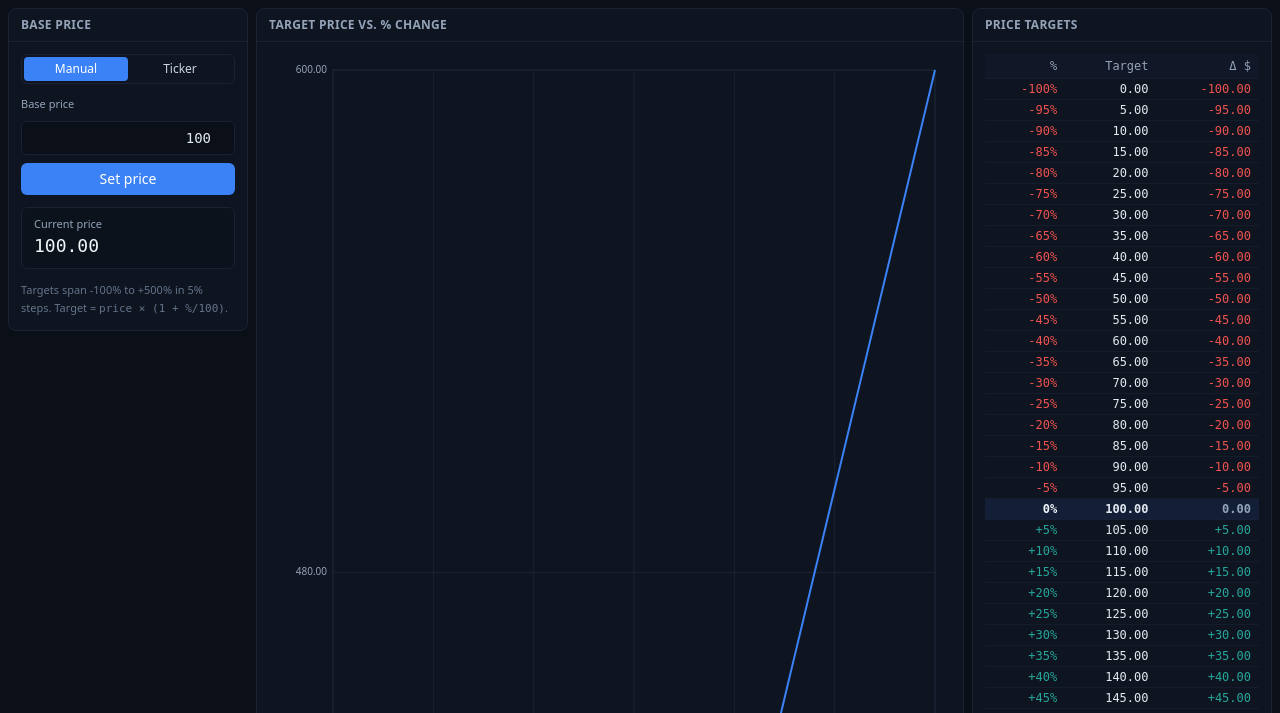
Test: PriceTargetWorkspace › recomputes targets when a manual base price is set
Replace the text in the number field labelled "Base price" with "200" at (128, 138), box [21,120,235,154]
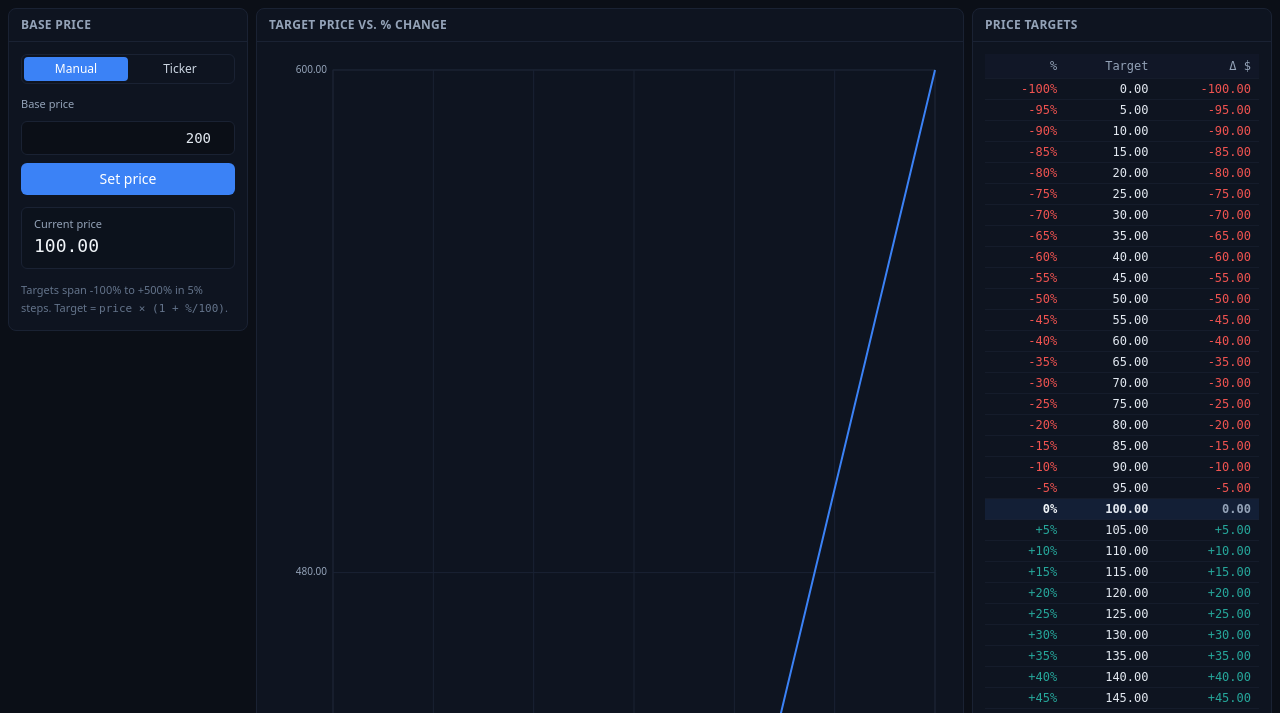
Click the button "Set price" at (128, 178), box [21,162,235,194]
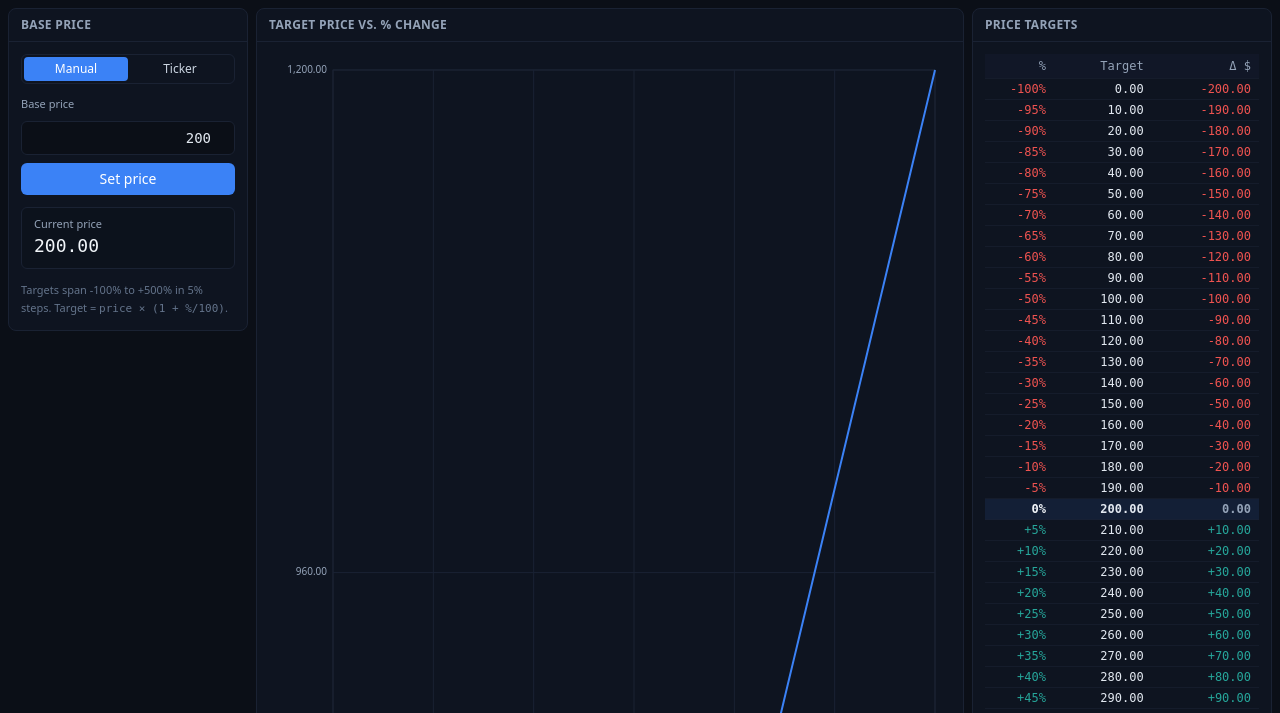
Result: the text "210.00" is shown at [1054,520,1152,540]
